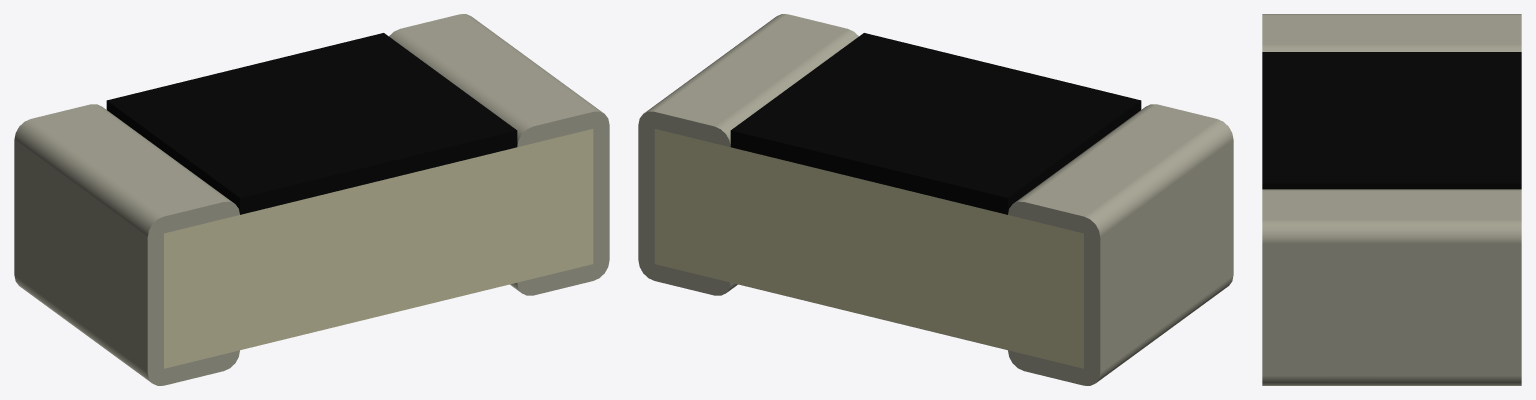
Rendered from R36_R_0402_1005Metric.obj.
3 views of the same model, side by side, from view 1: azimuth 30°, elevation 25°; view 2: azimuth 150°, elevation 25°; view 3: azimuth 270°, elevation 25° (orthographic). The views are drawn at different scales.
Visible parts, largest first — view 1: R36; view 2: R36; view 3: R36.
Part boxes in pixels (box(x1,y1,x2,y2)): R36: box(14, 14, 609, 385); R36: box(638, 14, 1233, 385); R36: box(1262, 14, 1521, 385).
Bounding box in the file's own units: 0.01 × 0.0035 × 0.005.
